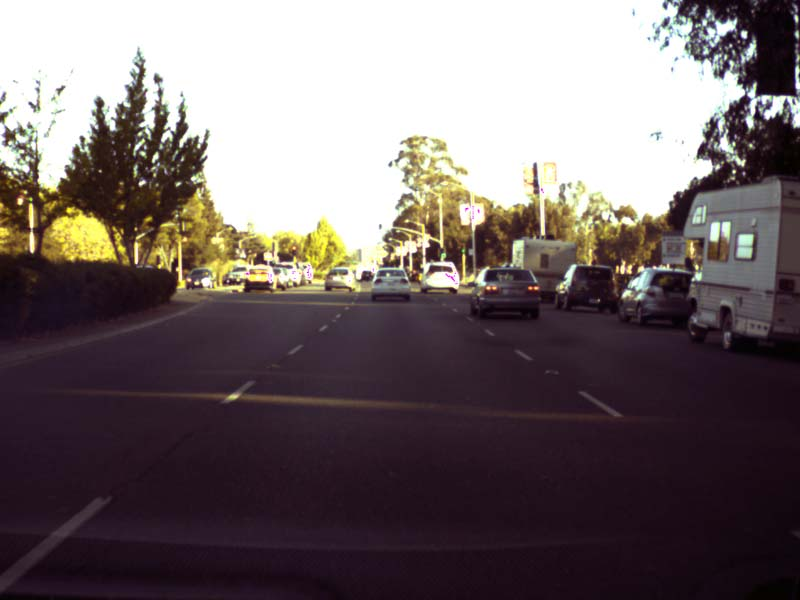Green: (438, 248, 446, 257), (460, 248, 465, 252)
